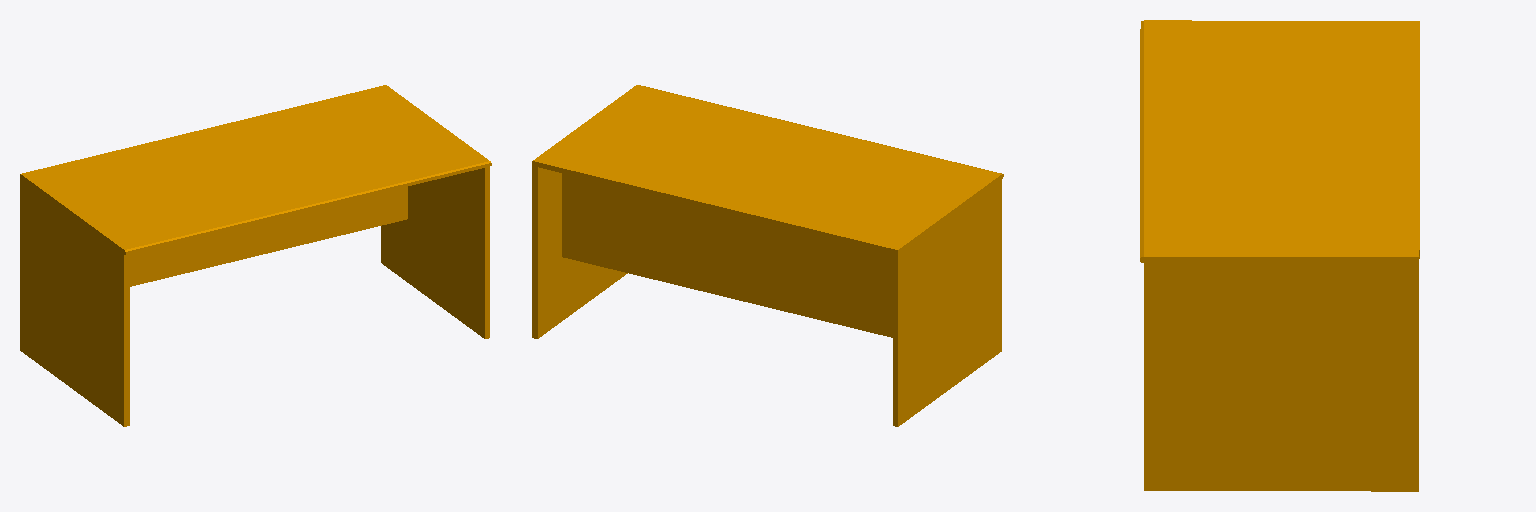
The robot description file, URDF, robot "lab_desk_1":
<?xml version="1.0"?>
<robot name="lab_desk_1">
	<link name="base">
        <inertial>
        	<origin xyz="0 0 0" rpy="0 0 0"/>
        	<mass value="0.05"/>
            <inertia ixx="0.000683333"  ixy="0"  ixz="0" iyy="0.000683333" iyz="0" izz="0.000683333" />
        </inertial>
        <visual>
            <!--origin xyz="0.001 0.00288 -0.013" rpy="0 0 0" /-->
            <origin xyz="0.0 0.0 0.0" rpy="0 0 0" />
            <geometry>
                <mesh filename="ioclab_files/desk.dae" scale="1 1 1"/>
            </geometry>
            <!--
            <material>
                <color rgba="1 0 0 1" />
            </material>
            -->
        </visual>
        <collision>
            <geometry>
                <mesh filename="ioclab_files/desk.dae" scale="1 1 1"/>
            </geometry>
            <material>
                <color rgba="1 0 0 1" />
            </material>
        </collision>
	</link>
</robot>

--- Render facts (derived) ---
3 views of the same robot in one strip: view 1: azimuth 30°, elevation 25°; view 2: azimuth 150°, elevation 25°; view 3: azimuth 270°, elevation 25° (orthographic).
Model lab_desk_1 with 1 links and 0 joints (none), rooted at base, posed all joints at 0.
Visible links, largest first — view 1: base; view 2: base; view 3: base.
Link boxes in pixels (left/top/right/bottom): base: left=20, top=85, right=491, bottom=426; base: left=532, top=85, right=1003, bottom=426; base: left=1140, top=20, right=1419, bottom=491.
Bounding box of the posed robot: 1.6 × 0.8 × 0.74 m (x, y, z).
1 mesh visuals loaded from 1 distinct referenced files (1 Collada DAE).
